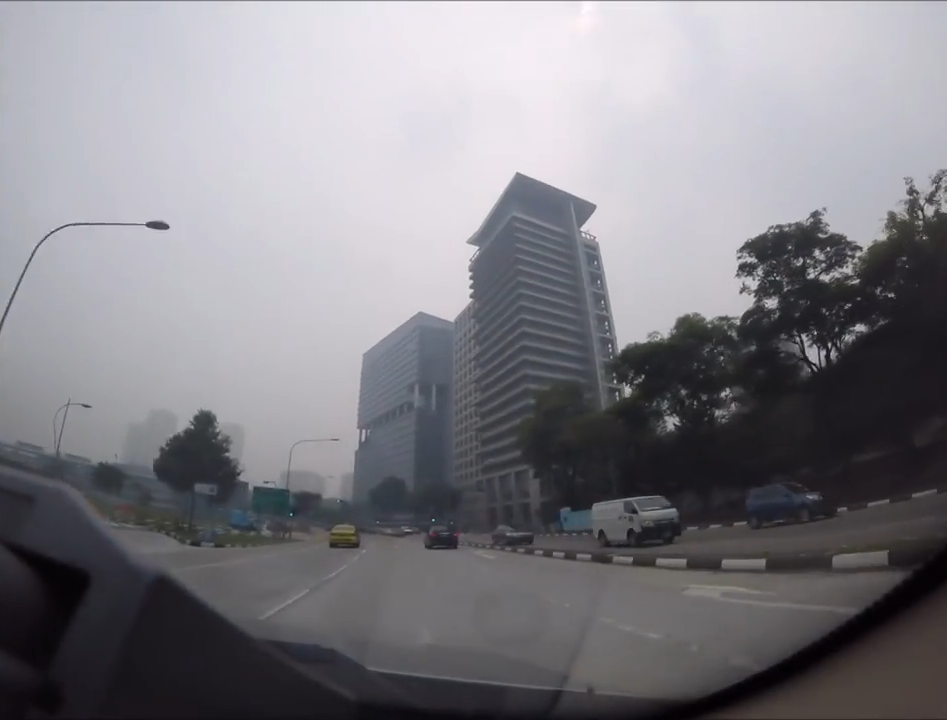car: (588, 492, 679, 545), (741, 483, 833, 530), (491, 524, 536, 544), (421, 524, 457, 549), (326, 522, 360, 548)
